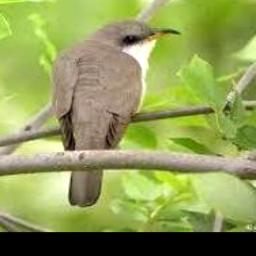Cuckoo: (48, 20, 181, 207)
